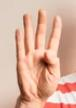right: (13, 8, 62, 100)
